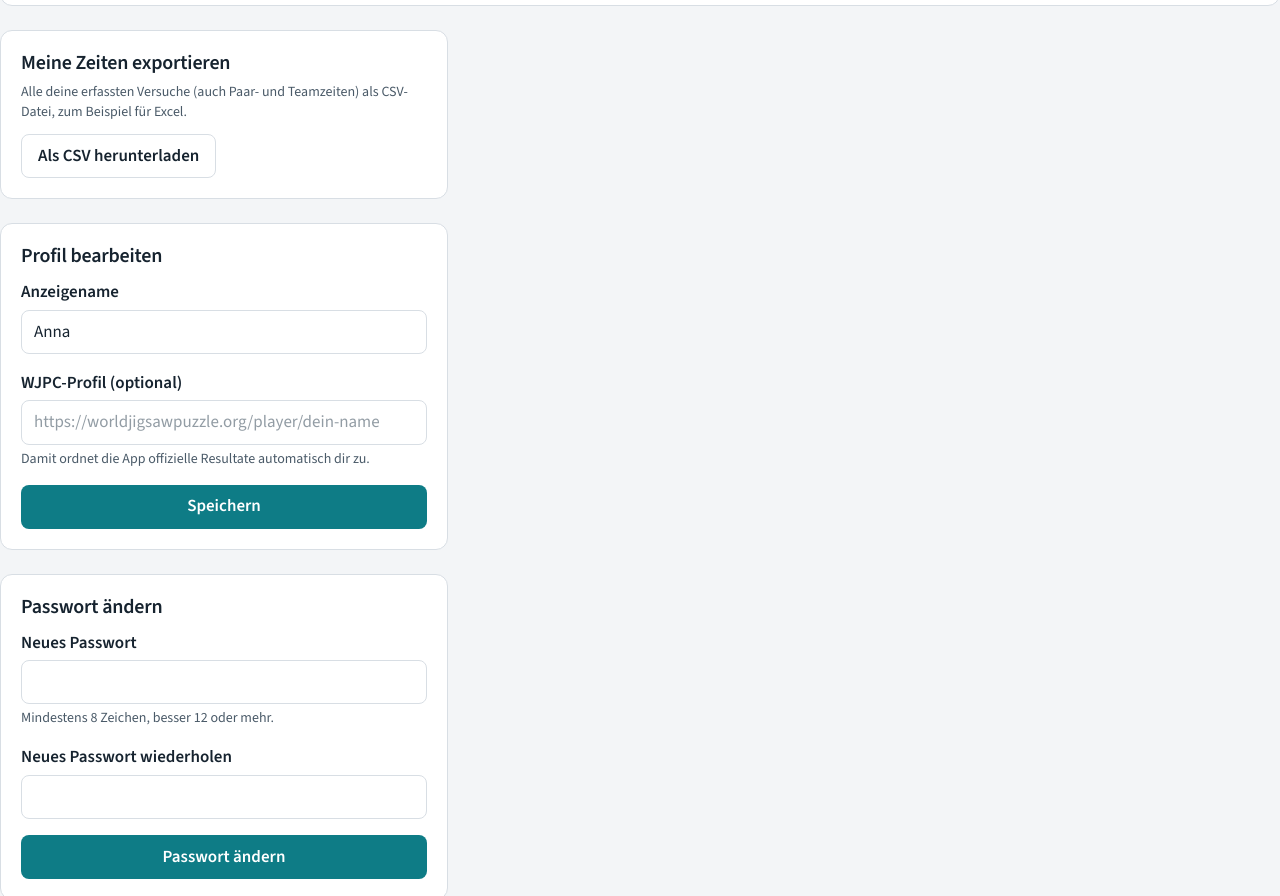
Scenario: Passwort ändern (Rauchtest) › sendet das neue Passwort und bestätigt
(page scrolled)
In the password field labelled "Neues Passwort Mindestens 8 Zeichen, besser 12 oder mehr.": x=224, y=682 top-left (21, 660), bottom-right (427, 704), type "langeslangespasswort"
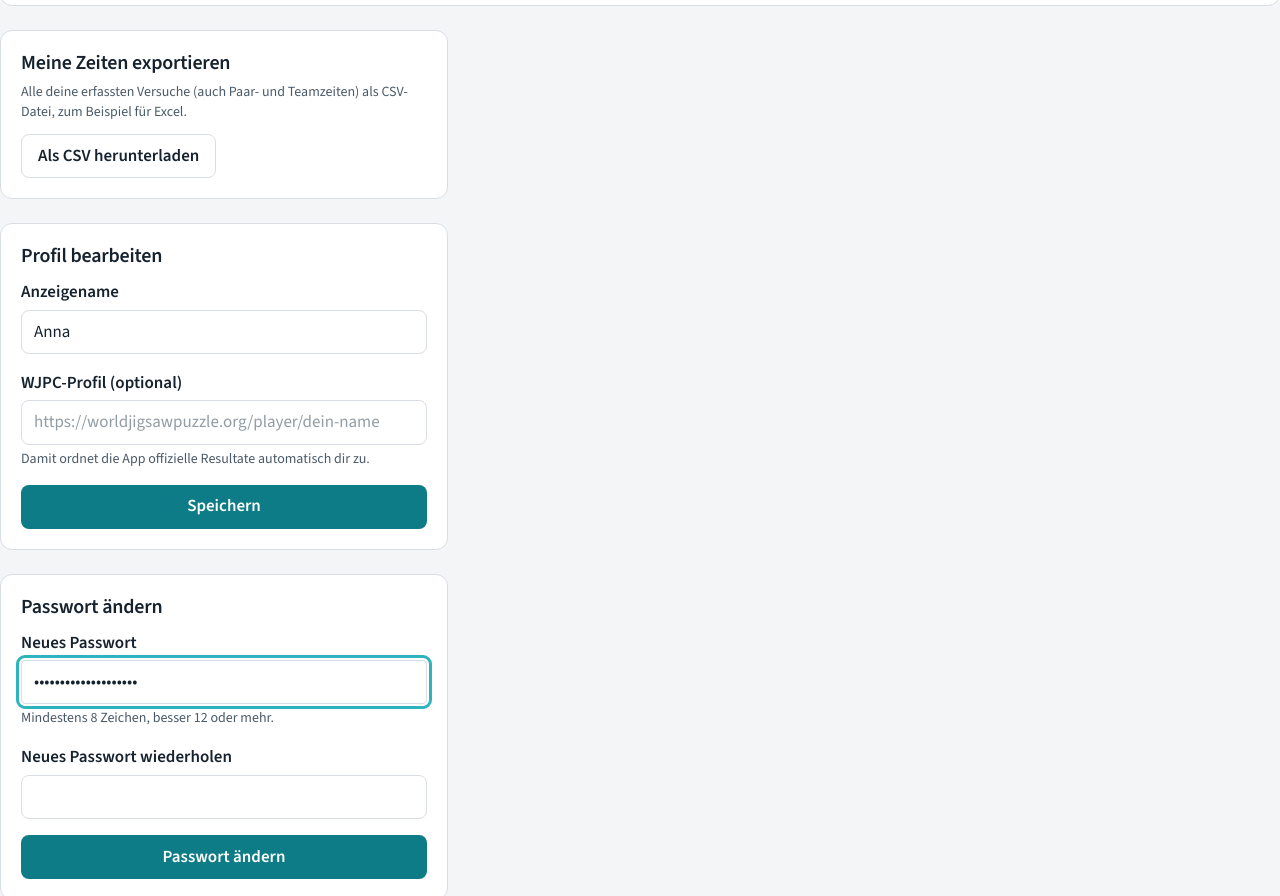
In the password field labelled "Neues Passwort wiederholen": x=224, y=797 top-left (21, 775), bottom-right (427, 819), type "langeslangespasswort"
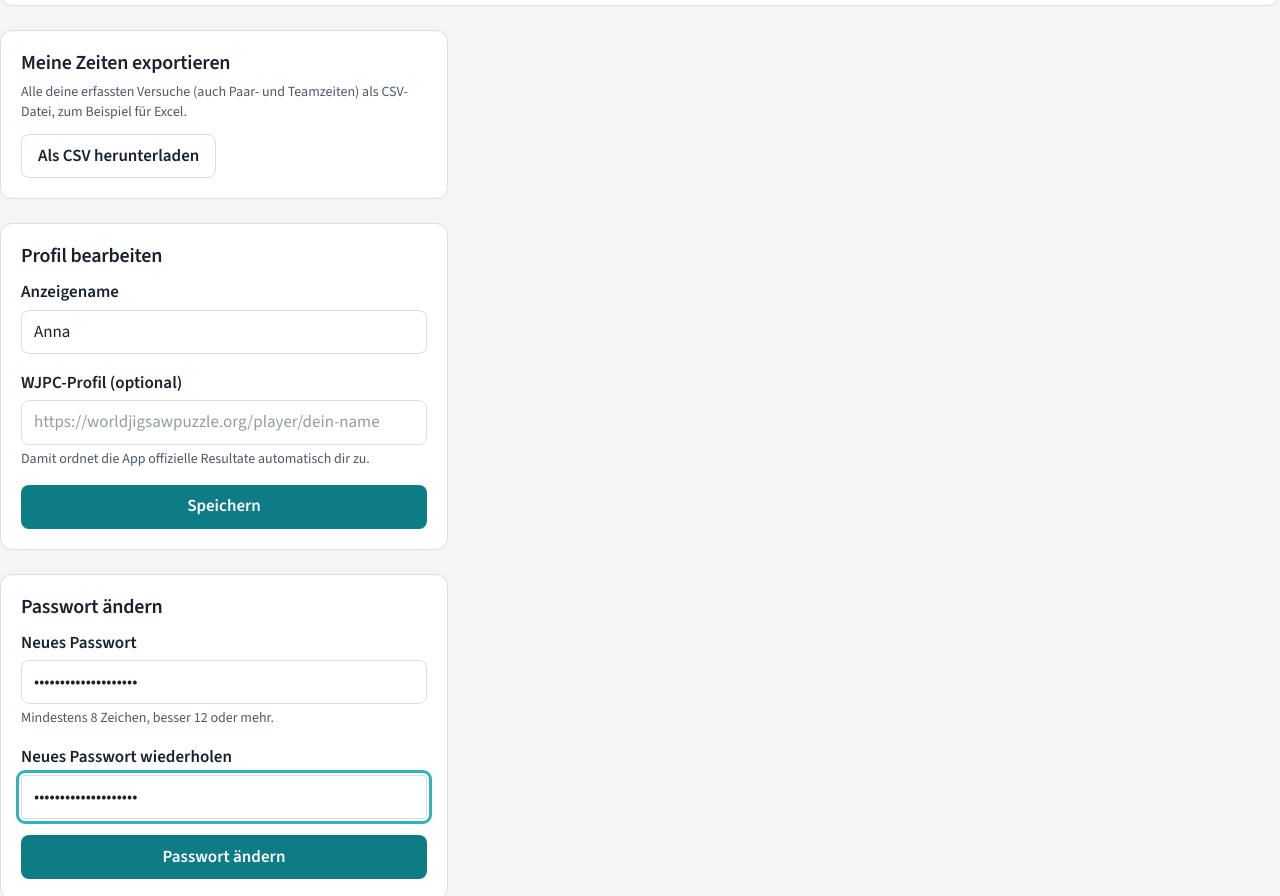
Click the button "Passwort ändern": x=224, y=857 top-left (21, 835), bottom-right (427, 879)
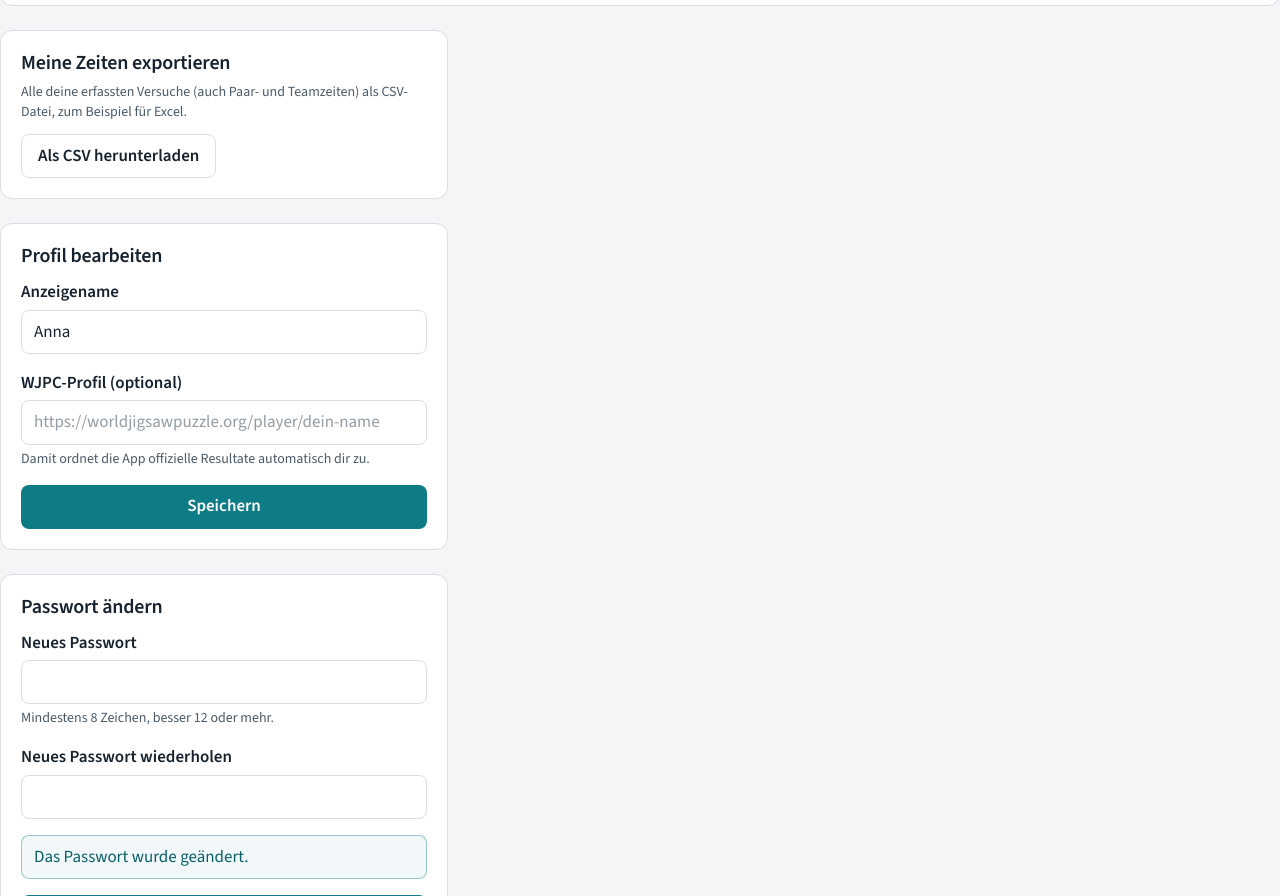
Expected: the text "Das Passwort wurde geändert." is shown, top-left (21, 835), bottom-right (427, 879)
